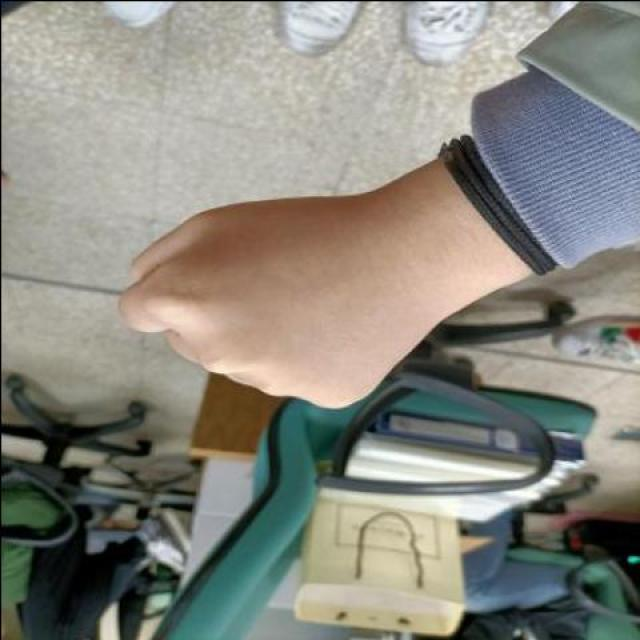Closed Hand: (112, 184, 444, 408)
